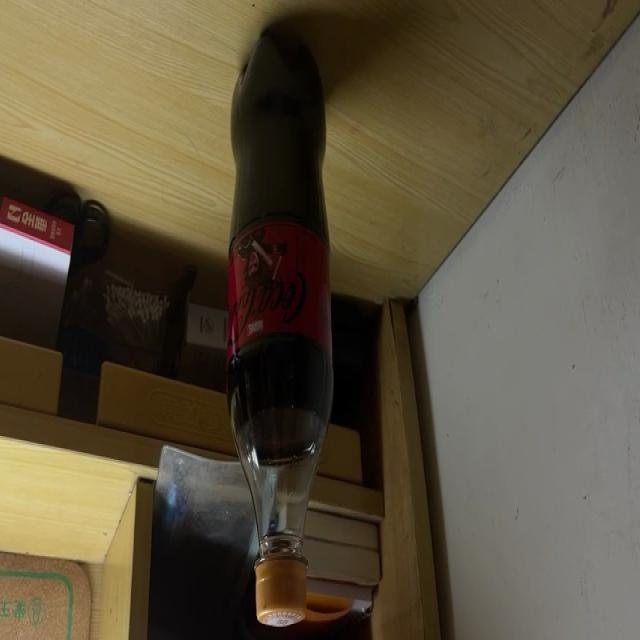Coca-Cola: (228, 26, 331, 630)
